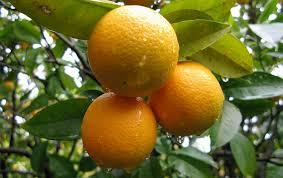orange: (89, 2, 178, 98), (152, 62, 232, 132), (84, 94, 161, 162)
